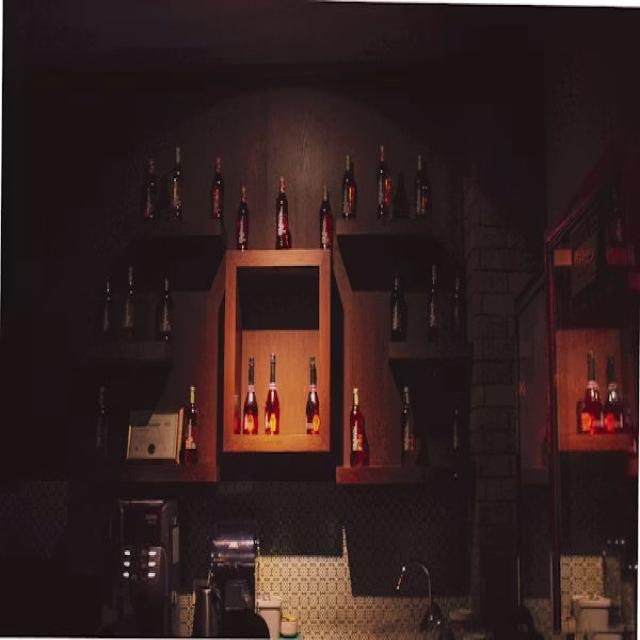Bottle: (580, 352, 602, 434), (604, 355, 623, 432), (350, 389, 369, 466), (400, 386, 417, 465), (243, 356, 258, 434), (265, 353, 279, 434), (183, 386, 197, 465), (391, 273, 407, 341), (276, 177, 291, 249), (377, 146, 391, 222), (156, 278, 172, 342), (414, 156, 430, 218), (607, 185, 623, 246), (94, 386, 107, 460), (142, 157, 157, 220), (307, 356, 319, 434), (428, 265, 440, 341), (452, 394, 462, 481), (343, 156, 357, 218), (122, 267, 134, 339), (170, 147, 182, 218), (236, 187, 249, 251), (319, 185, 332, 249), (451, 275, 462, 344), (211, 157, 223, 220), (101, 280, 113, 341)
